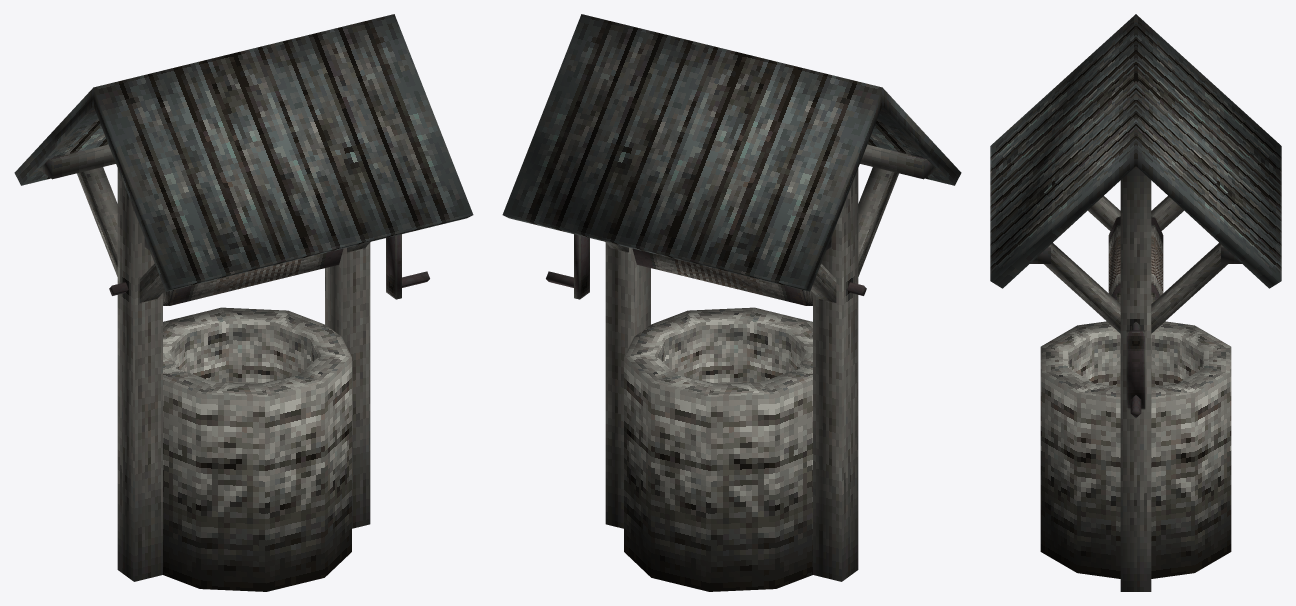
The model's file is oga_well.glb.
The picture shows the model from 3 angles, left to right: view 1: azimuth 30°, elevation 25°; view 2: azimuth 150°, elevation 25°; view 3: azimuth 270°, elevation 25°; orthographic projection. The views are drawn at different scales.
Parts seen in each view (by area): view 1: oga_well; view 2: oga_well; view 3: oga_well.
Part boxes in pixels (bbox=[...]): oga_well: bbox=[14, 14, 473, 591]; oga_well: bbox=[502, 14, 961, 591]; oga_well: bbox=[990, 14, 1281, 591].
Bounding box in the file's own units: 1.9 × 2.7 × 1.56.
1 material, 1 textured.
